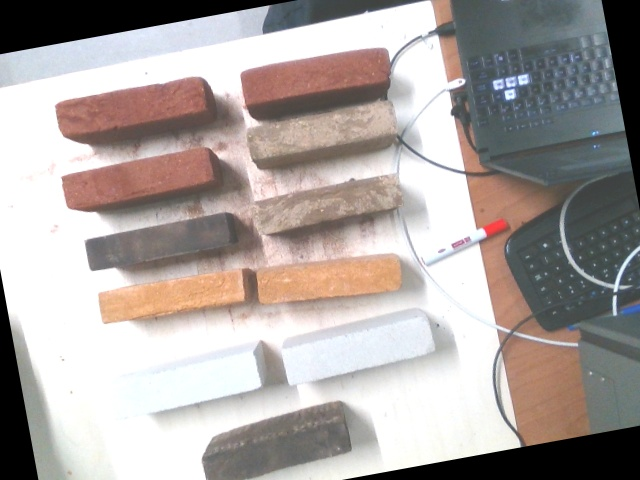brick-side: (281, 316, 433, 386), (61, 144, 214, 213), (107, 351, 259, 418), (57, 75, 209, 138), (198, 418, 350, 479), (81, 211, 233, 271), (245, 100, 393, 161), (252, 174, 397, 236), (238, 47, 388, 103), (97, 270, 243, 322), (254, 254, 397, 307)
